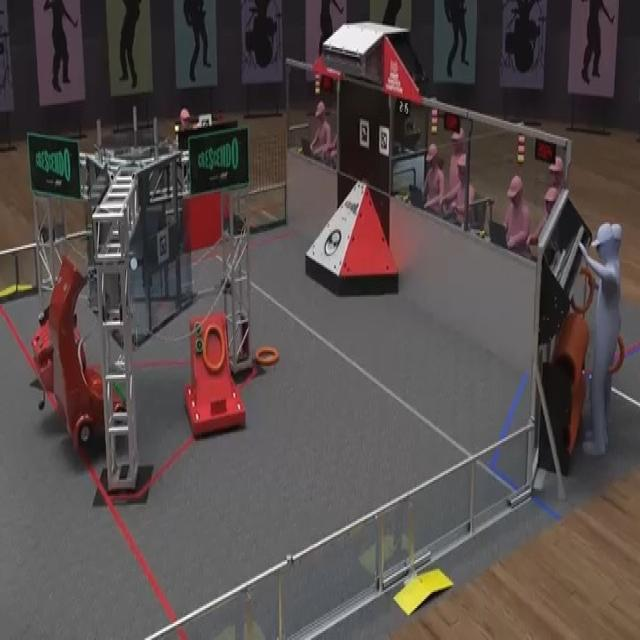notes: (256, 344, 278, 368)
